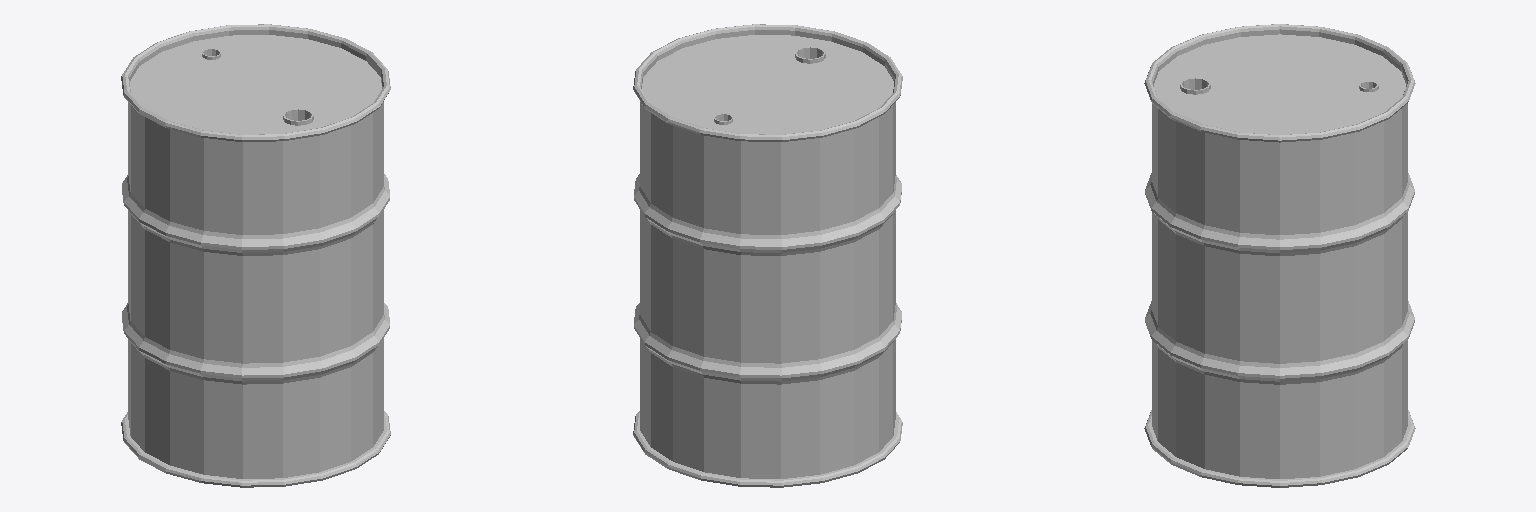
The model's file is barrel.obj.
The picture shows the model from 3 angles: view 1: azimuth 30°, elevation 25°; view 2: azimuth 150°, elevation 25°; view 3: azimuth 270°, elevation 25°; orthographic projection.
Visible parts, largest first — view 1: Cylinder.104; view 2: Cylinder.104; view 3: Cylinder.104.
Part boxes in pixels (left/top/right/bottom): Cylinder.104: left=121, top=24, right=390, bottom=487; Cylinder.104: left=633, top=24, right=902, bottom=487; Cylinder.104: left=1144, top=24, right=1415, bottom=487.
Size of the model in its own units: 0.3503 by 0.5024 by 0.3503.